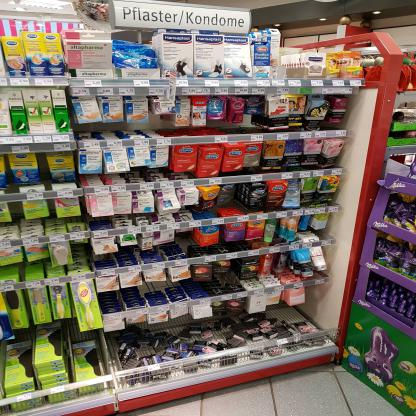Void: (275, 308, 313, 322)
